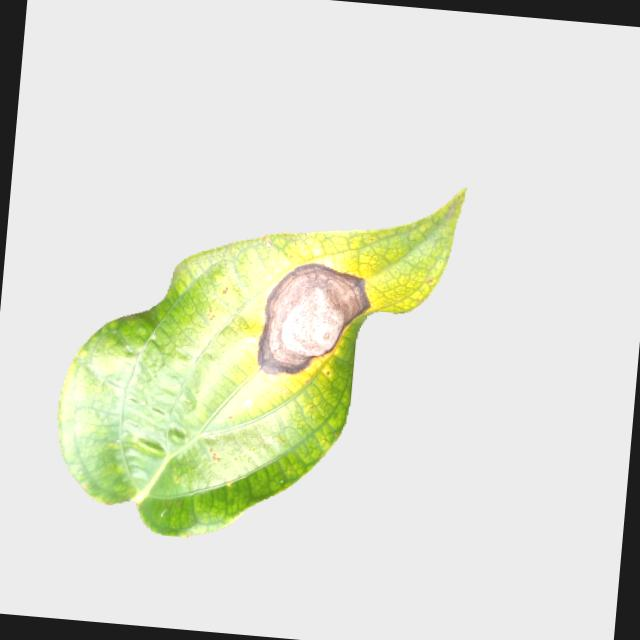leaf-blight: (37, 150, 468, 560)
